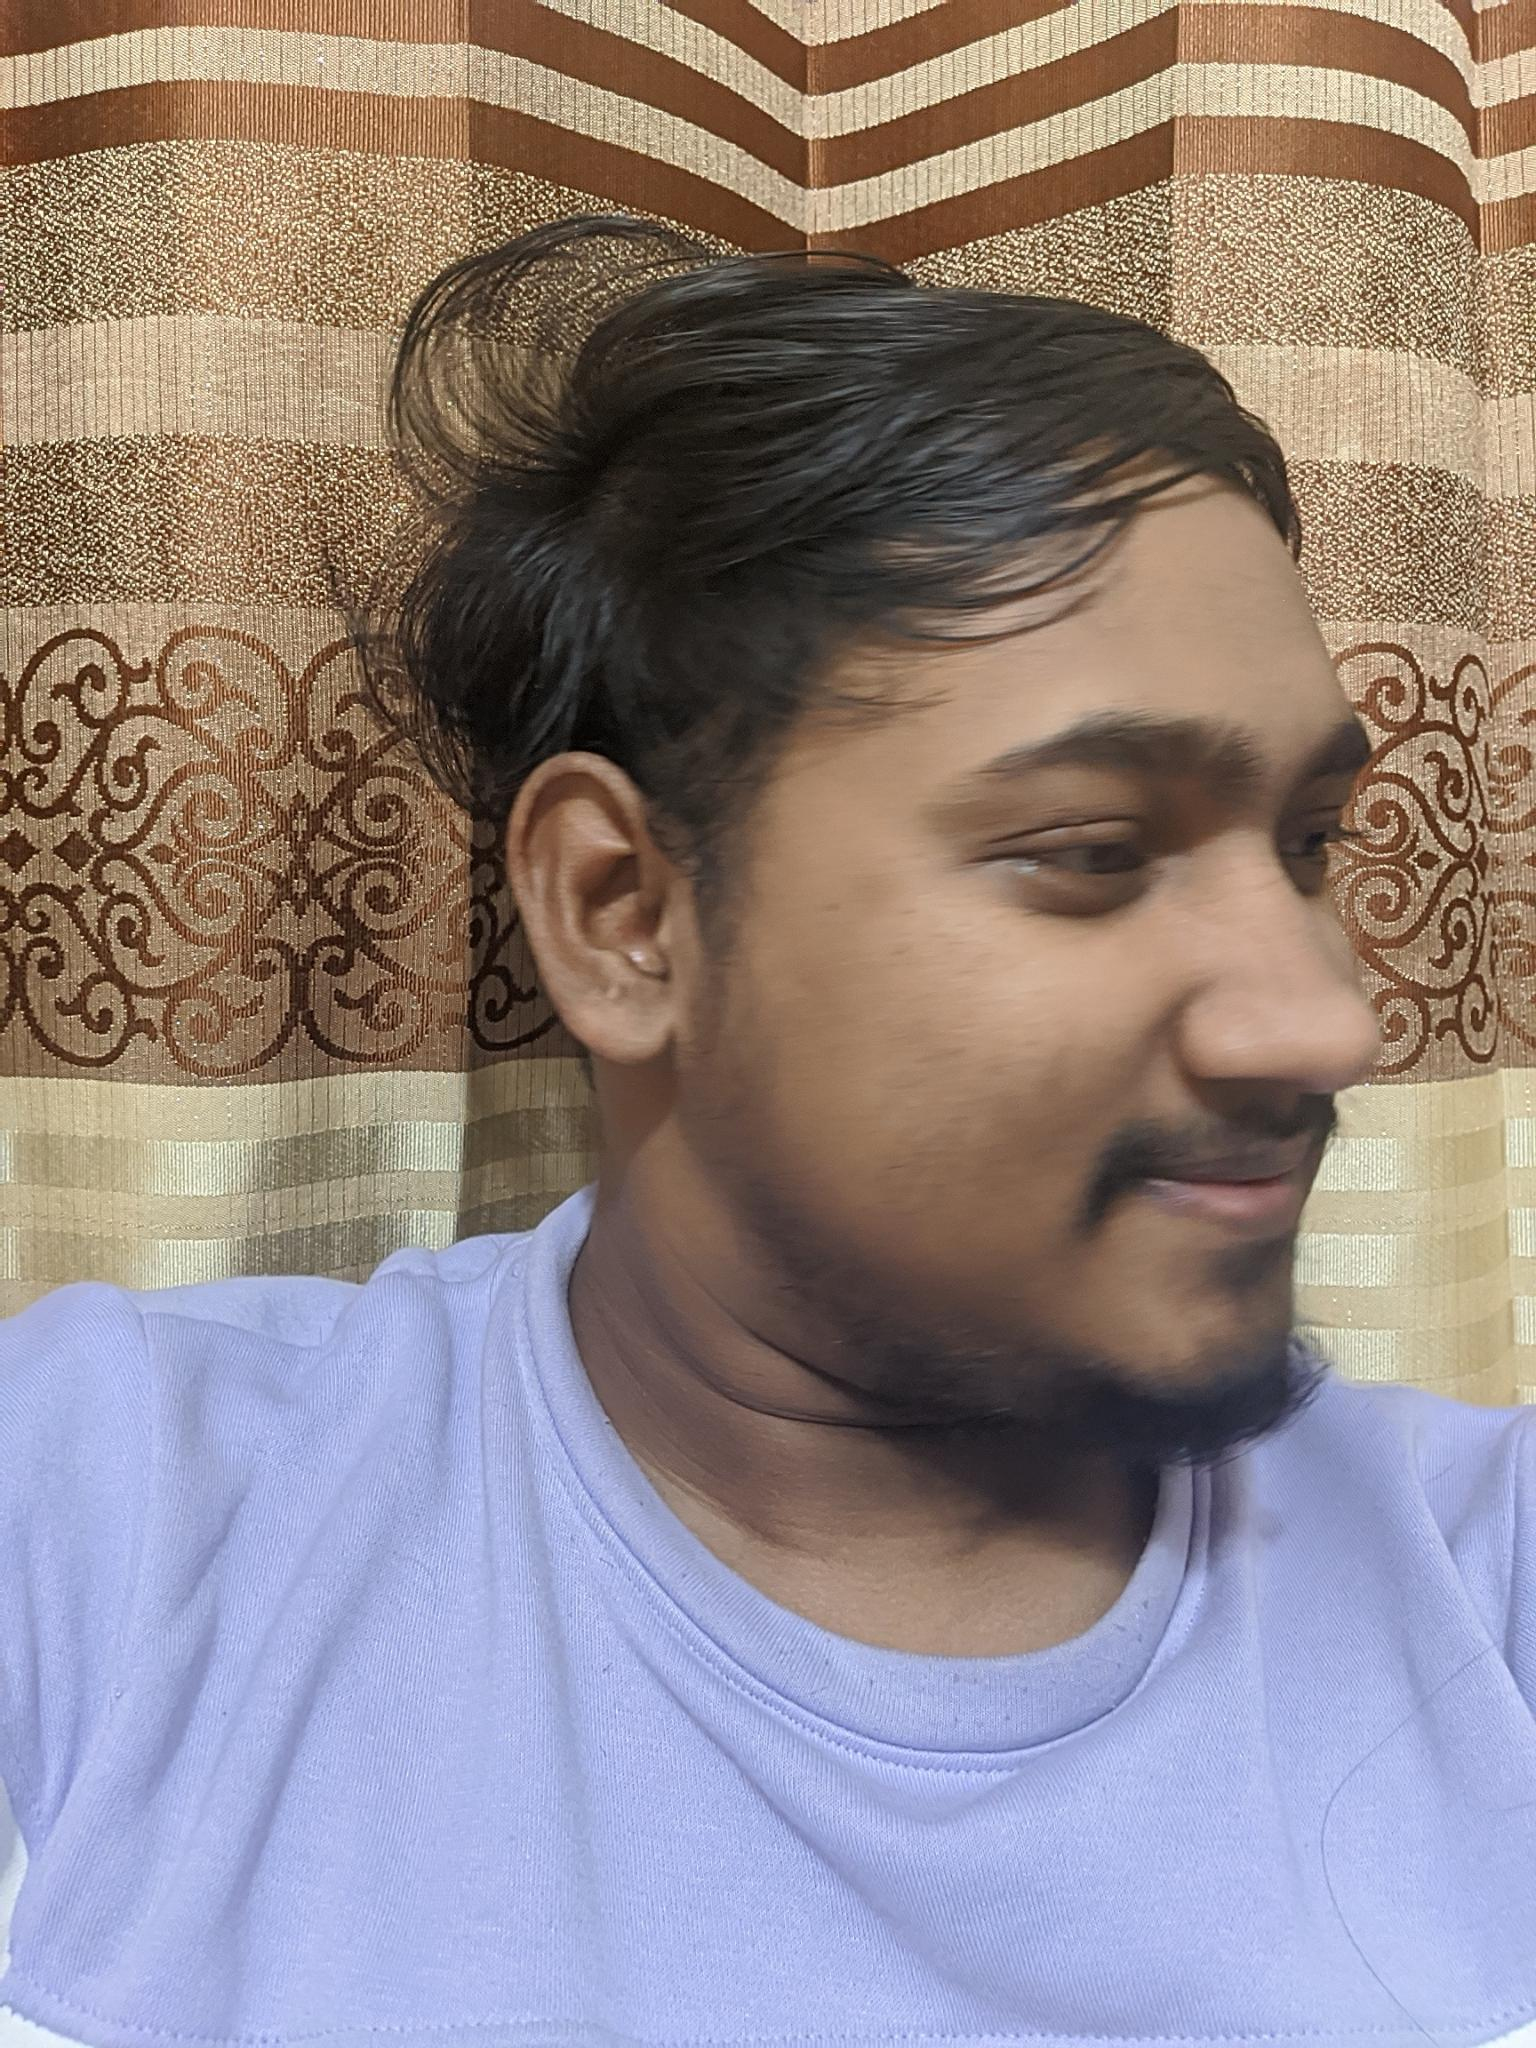Happy: (863, 614, 1439, 1450)
